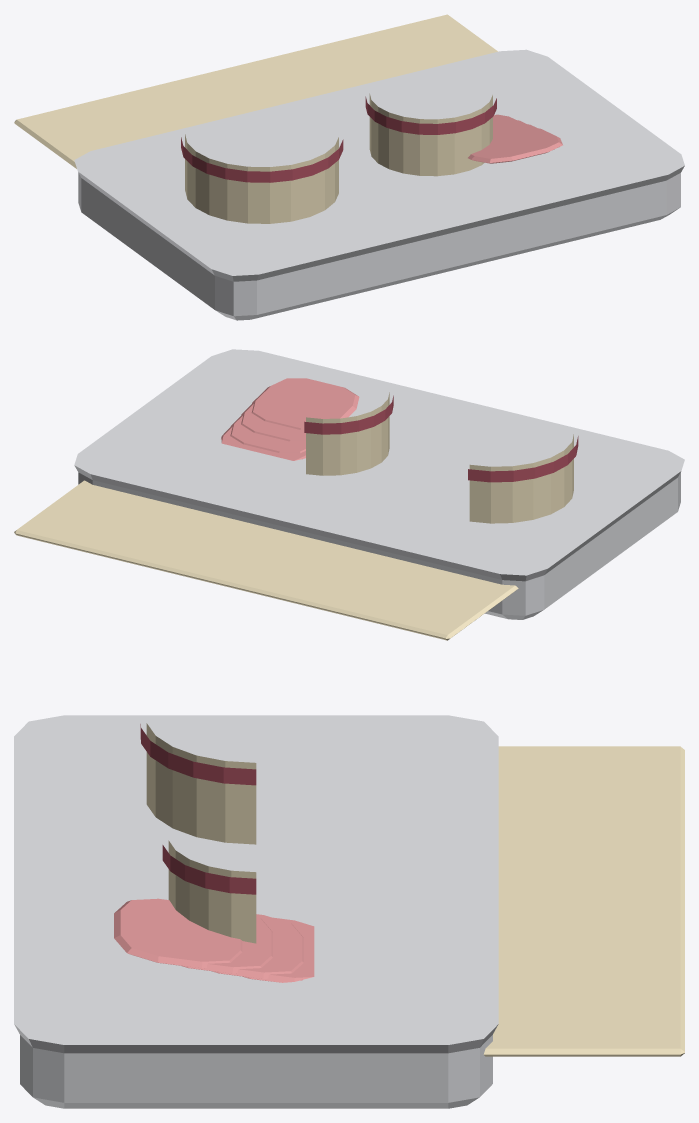
The model's file is butchers-shop-and-deli-counter-cheese-and-cold-cuts-tr-3d1d74dd.glb.
3 renders of one model, top to bottom at view 1: azimuth 30°, elevation 25°; view 2: azimuth 150°, elevation 25°; view 3: azimuth 270°, elevation 25°, orthographic. The views are drawn at different scales.
Parts seen in each view (by area): view 1: cheese-and-cold-cuts-tray; view 2: cheese-and-cold-cuts-tray; view 3: cheese-and-cold-cuts-tray.
Boxes of the visible parts, bbox=[...] form: cheese-and-cold-cuts-tray: bbox=[14, 14, 684, 320]; cheese-and-cold-cuts-tray: bbox=[14, 349, 684, 640]; cheese-and-cold-cuts-tray: bbox=[14, 715, 684, 1108].
Size of the model in its own units: 0.528 by 0.116 by 0.454.
